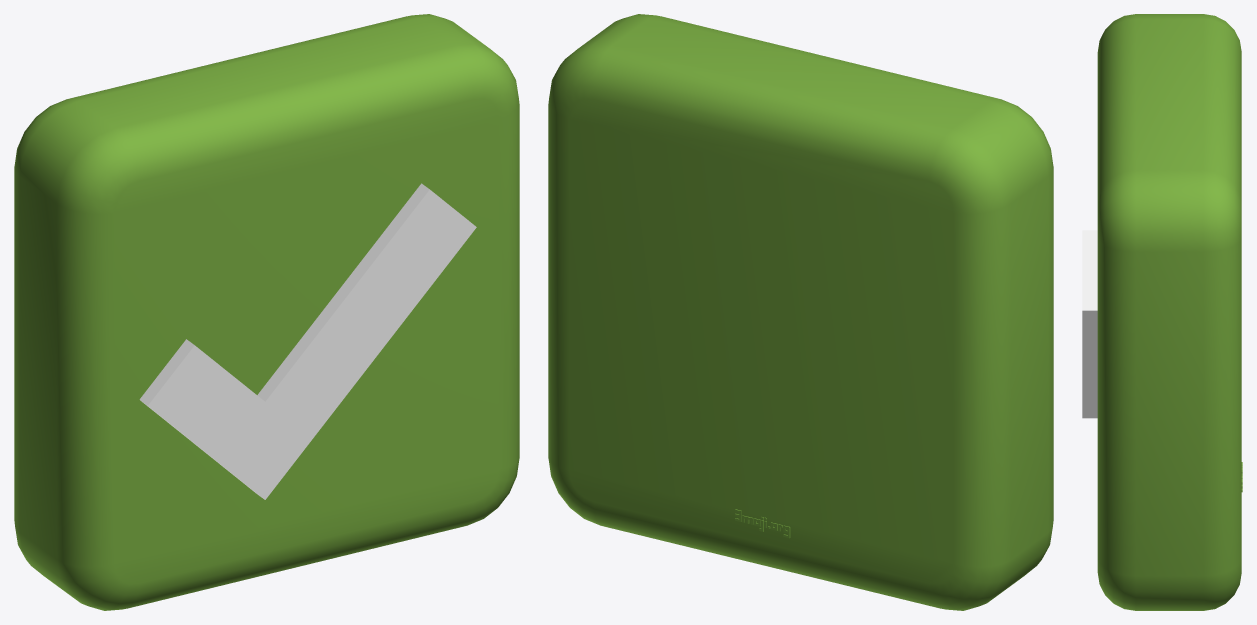
Rendered from check_mark_button.fbx.
3 renders of one model, left to right at view 1: azimuth 30°, elevation 25°; view 2: azimuth 150°, elevation 25°; view 3: azimuth 270°, elevation 25°, orthographic. The views are drawn at different scales.
Parts seen in each view (by area): view 1: Cube.6458; view 2: Cube.6458; view 3: Cube.6458.
Boxes of the visible parts, box(x1,y1,x2,y2) form: Cube.6458: box(14, 14, 519, 610); Cube.6458: box(548, 14, 1053, 610); Cube.6458: box(1082, 14, 1242, 610).
Bounding box in the file's own units: 220 × 220 × 73.37.
1 material, 1 textured.
